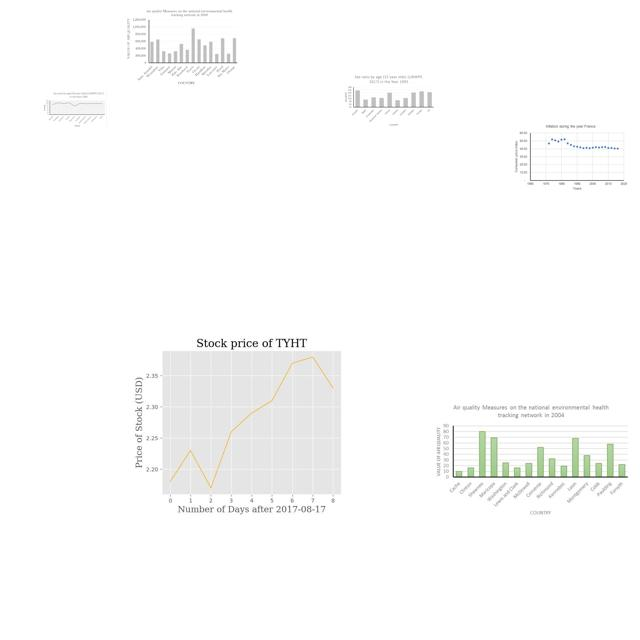Graph: (124, 328, 373, 515), (430, 400, 630, 518), (125, 7, 240, 88), (514, 124, 628, 191), (342, 73, 435, 127), (42, 91, 107, 127)
